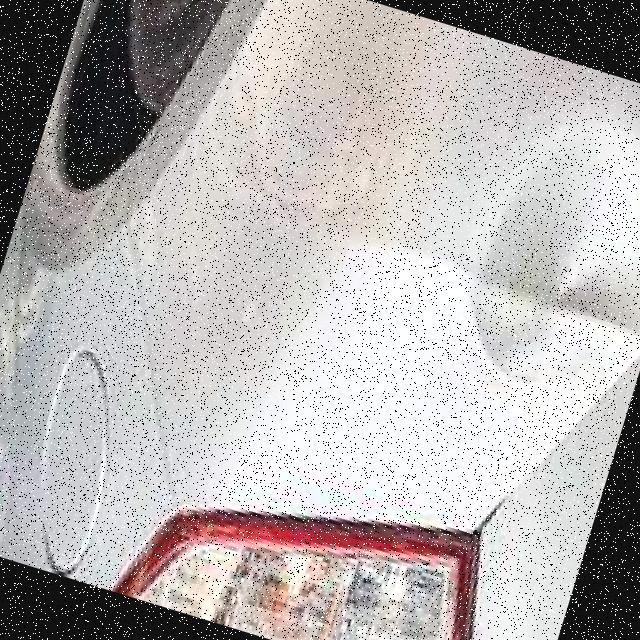Dent: (442, 114, 640, 390)
